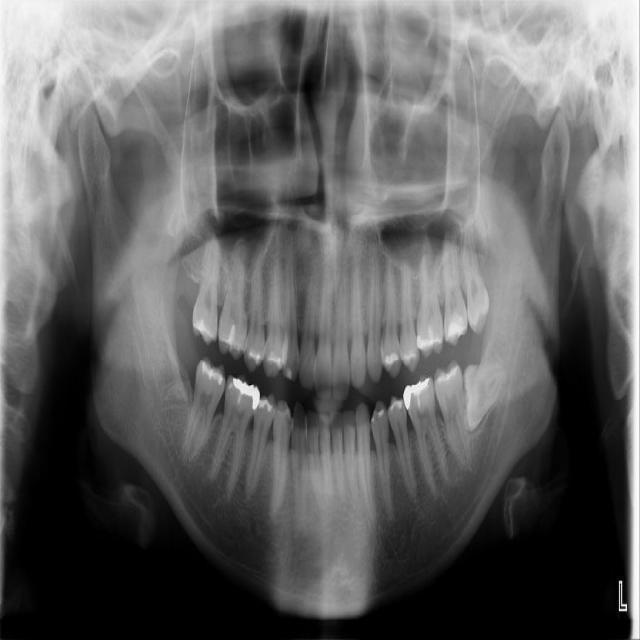52: (395, 371, 448, 426), (424, 358, 474, 413), (219, 373, 263, 424), (189, 355, 229, 409), (212, 307, 251, 360), (413, 309, 446, 358), (191, 294, 219, 346), (241, 326, 269, 373), (443, 301, 468, 346), (396, 331, 422, 374), (263, 332, 287, 378), (379, 333, 403, 379), (385, 394, 408, 435), (369, 399, 389, 443), (281, 336, 300, 381), (253, 394, 276, 430)
73: (609, 577, 615, 583)
BioHorizons Implant: (440, 229, 469, 346)
BioLife Implant: (457, 218, 493, 336)
Biomet 3i Implant: (462, 362, 507, 431)
Blue Sky Bio Implant: (431, 359, 473, 471)
Caries: (191, 236, 222, 345)
Implant: (180, 355, 229, 468)
